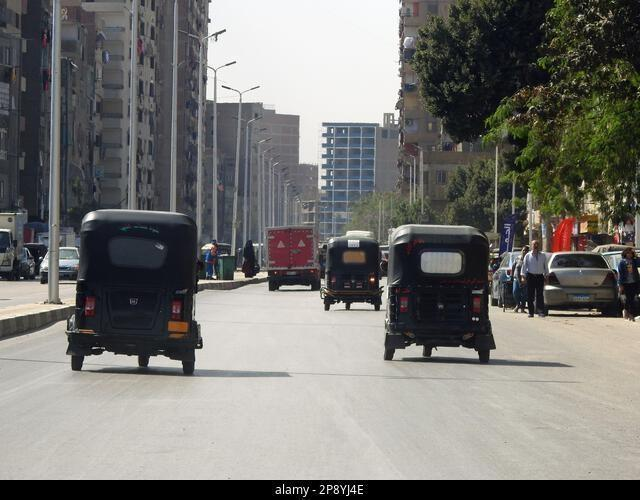keke: (68, 207, 196, 378), (384, 217, 496, 367), (322, 233, 383, 315)
